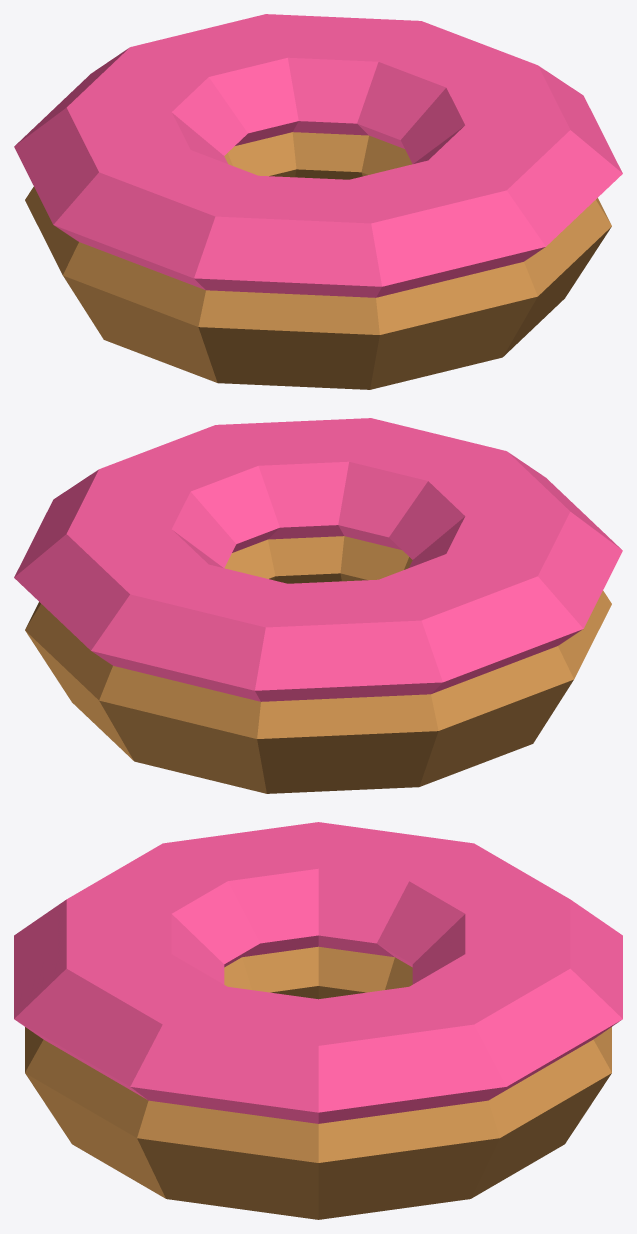
The model's file is donut.glb.
3 renders of one model, top to bottom at view 1: azimuth 30°, elevation 25°; view 2: azimuth 150°, elevation 25°; view 3: azimuth 270°, elevation 25°, orthographic. The views are drawn at different scales.
Parts seen in each view (by area): view 1: icing_icing_pink, dough_donut_dough; view 2: icing_icing_pink, dough_donut_dough; view 3: icing_icing_pink, dough_donut_dough.
Boxes of the visible parts, left/top/right/bottom form: icing_icing_pink: left=14, top=14, right=622, bottom=297; dough_donut_dough: left=25, top=132, right=611, bottom=389; icing_icing_pink: left=14, top=418, right=622, bottom=701; dough_donut_dough: left=25, top=536, right=611, bottom=793; icing_icing_pink: left=14, top=822, right=622, bottom=1123; dough_donut_dough: left=25, top=946, right=611, bottom=1219.
Size of the model in its own units: 0.168 by 0.0511 by 0.1598.
